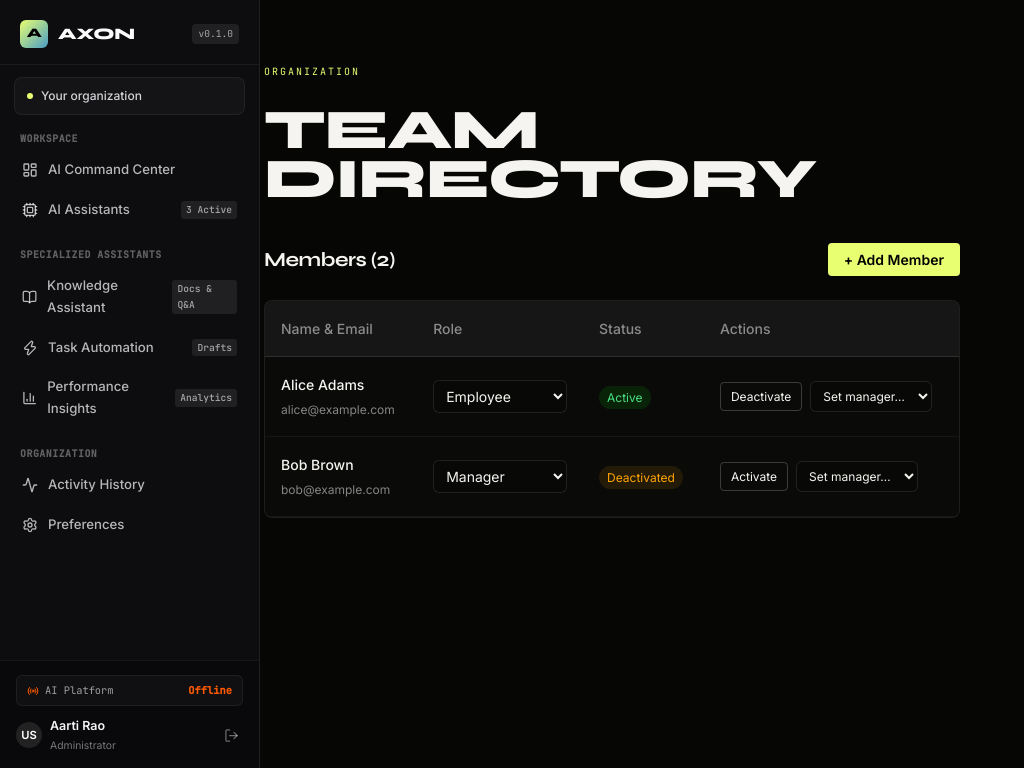
Scenario: OrganizationPage › creates a member through the backend and shows the one-time password
Click the button "+ Add Member".
click(894, 260)  # box [828,243,960,276]
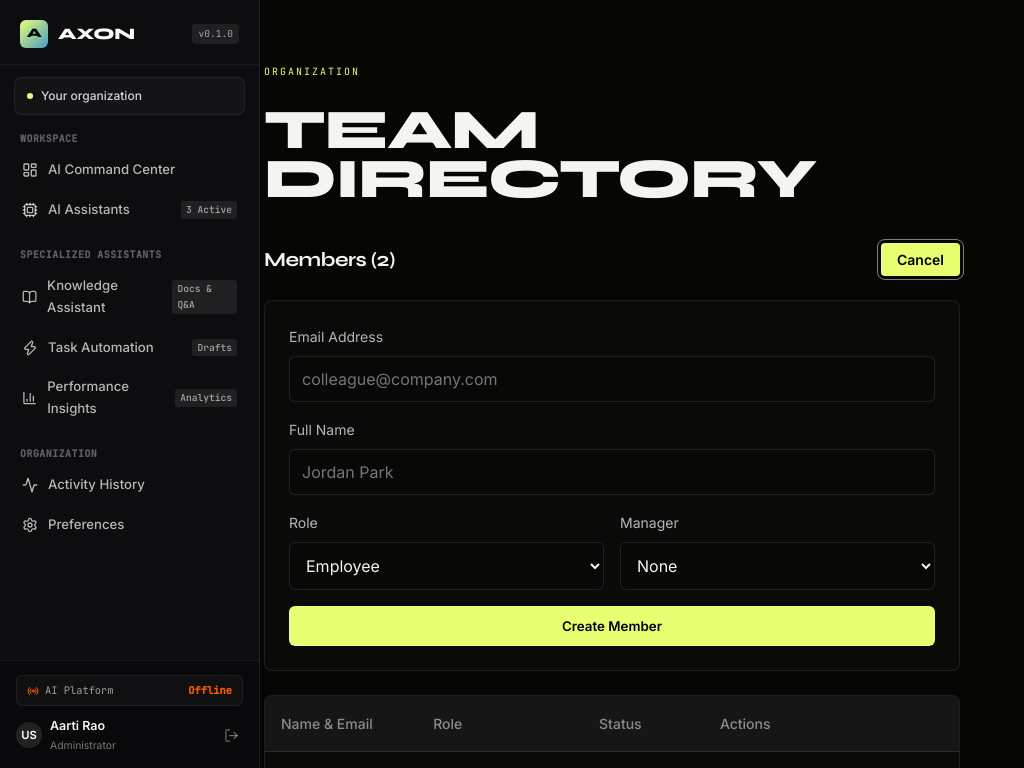
Type "new@example.com" into the field labelled "Email Address".
click(612, 379); type("new@example.com")  # box [289,356,935,402]
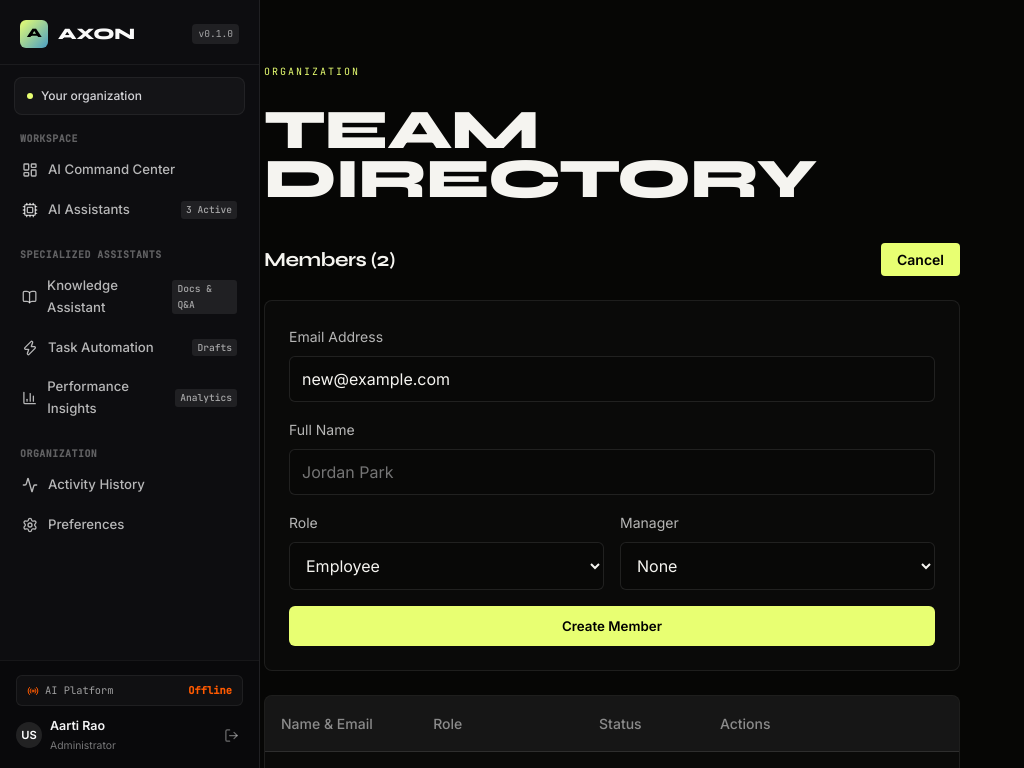
Type "New Person" into the field labelled "Full Name".
click(612, 472); type("New Person")  # box [289,449,935,495]
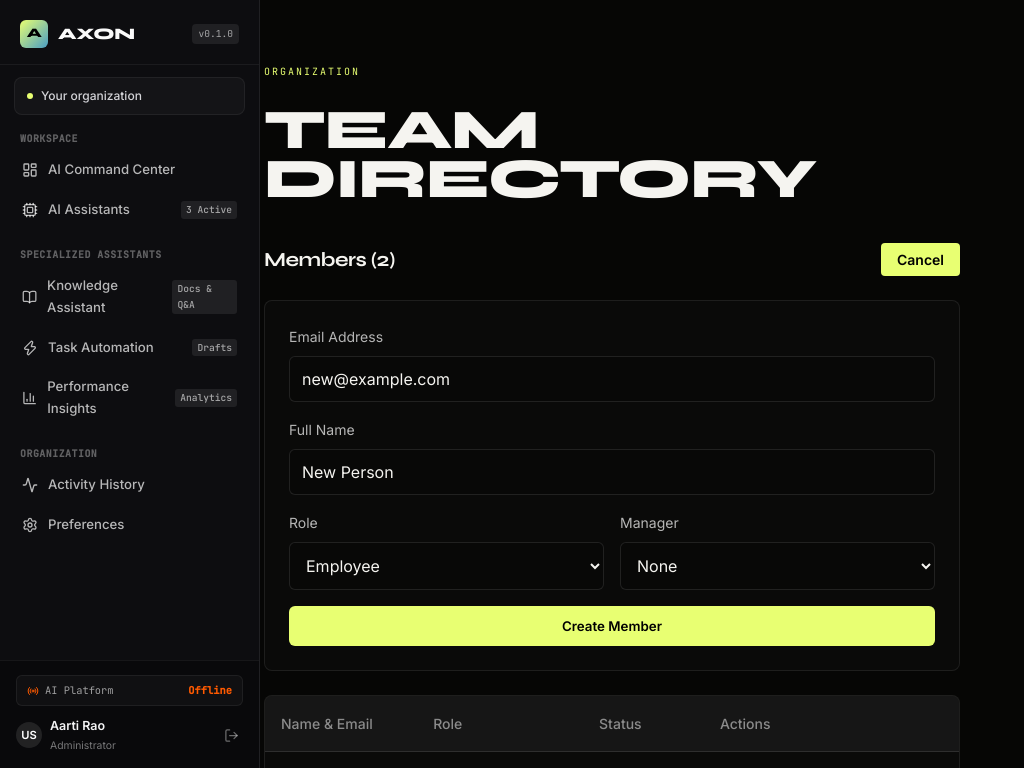
Click the button "Create Member".
click(612, 626)  # box [289,606,935,646]
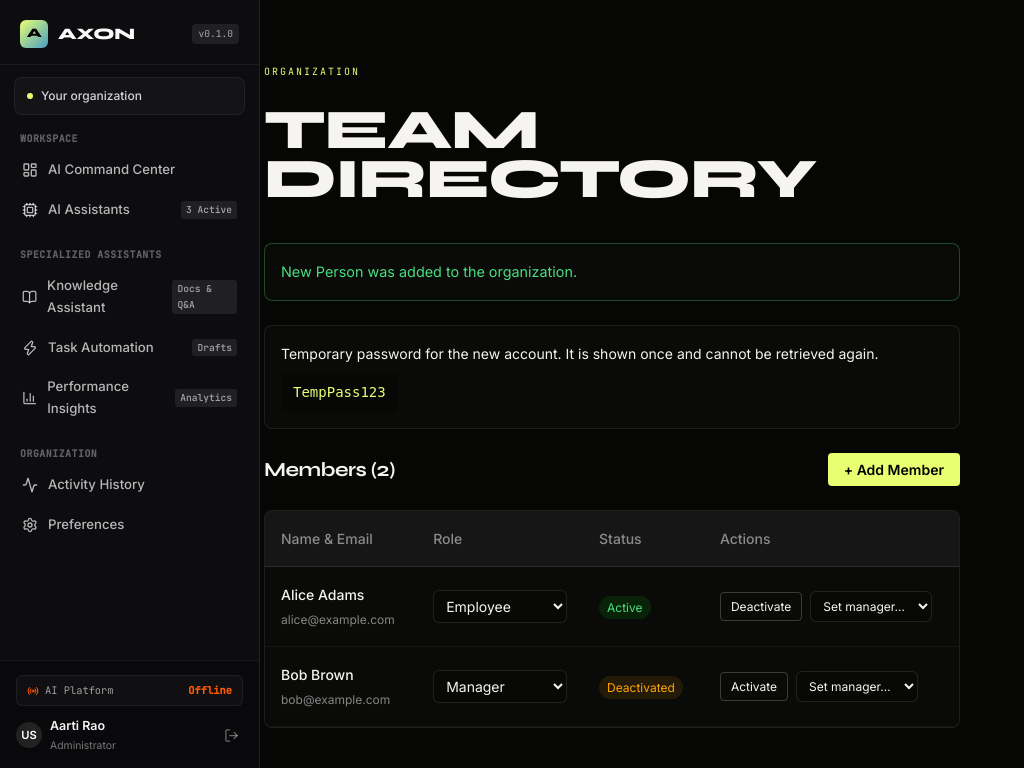
Expected: the text "TempPass123" is shown, [281,373,398,412]
